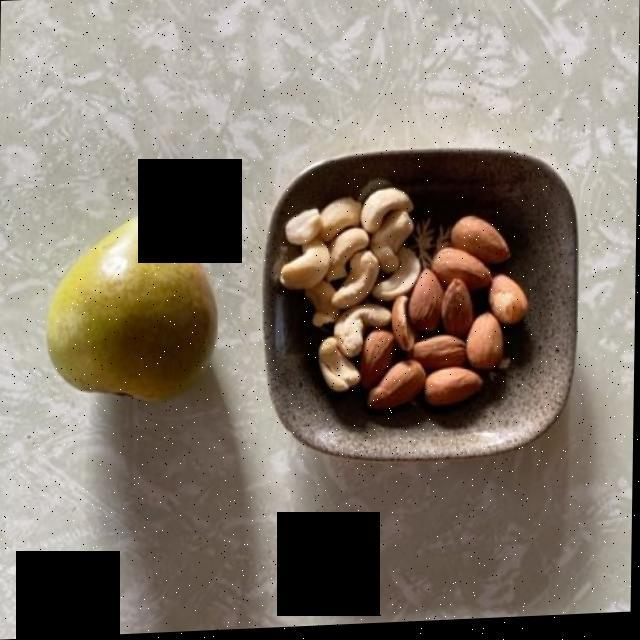almonds: (353, 230, 530, 412)
cashew-nut: (286, 183, 426, 389)
pear: (45, 197, 215, 405)
